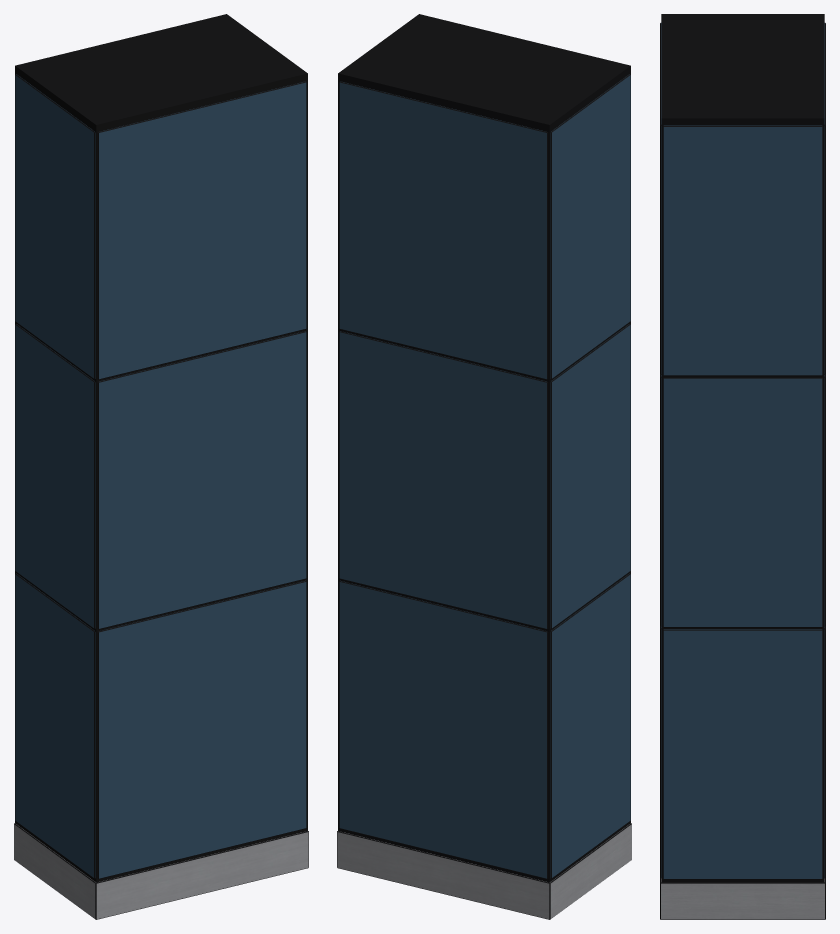
Rendered from gteki_column_sleeve_900x600_h3200_accent.glb.
The picture shows the model from 3 angles, left to right: view 1: azimuth 30°, elevation 25°; view 2: azimuth 150°, elevation 25°; view 3: azimuth 270°, elevation 25°; orthographic projection.
Parts seen in each view (by area): view 1: VIS_panels, VIS_core, VIS_plinth; view 2: VIS_panels, VIS_core, VIS_plinth; view 3: VIS_panels, VIS_core, VIS_plinth.
Boxes of the visible parts, <box> form: VIS_panels: <box>15,74,306,878</box>; VIS_core: <box>15,14,307,882</box>; VIS_plinth: <box>14,823,308,919</box>; VIS_panels: <box>339,74,630,878</box>; VIS_core: <box>338,14,630,882</box>; VIS_plinth: <box>337,823,631,919</box>; VIS_panels: <box>660,23,825,879</box>; VIS_core: <box>661,14,824,882</box>; VIS_plinth: <box>660,878,825,919</box>.
Size of the model in its own units: 0.9 by 3.2 by 0.6.
3 materials, 1 textured.
